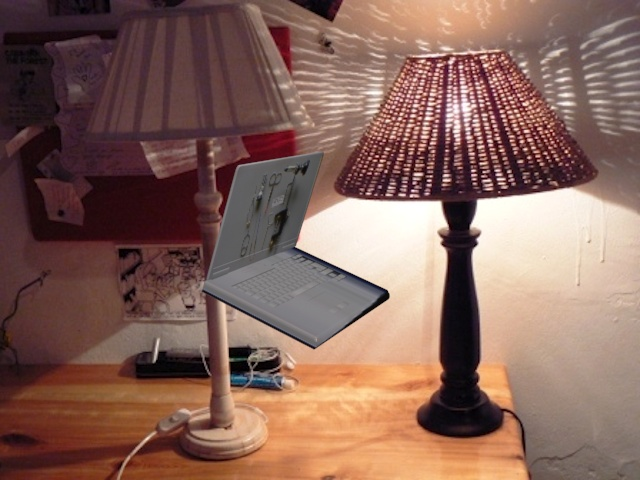laptop_computer: (193, 145, 400, 353)
